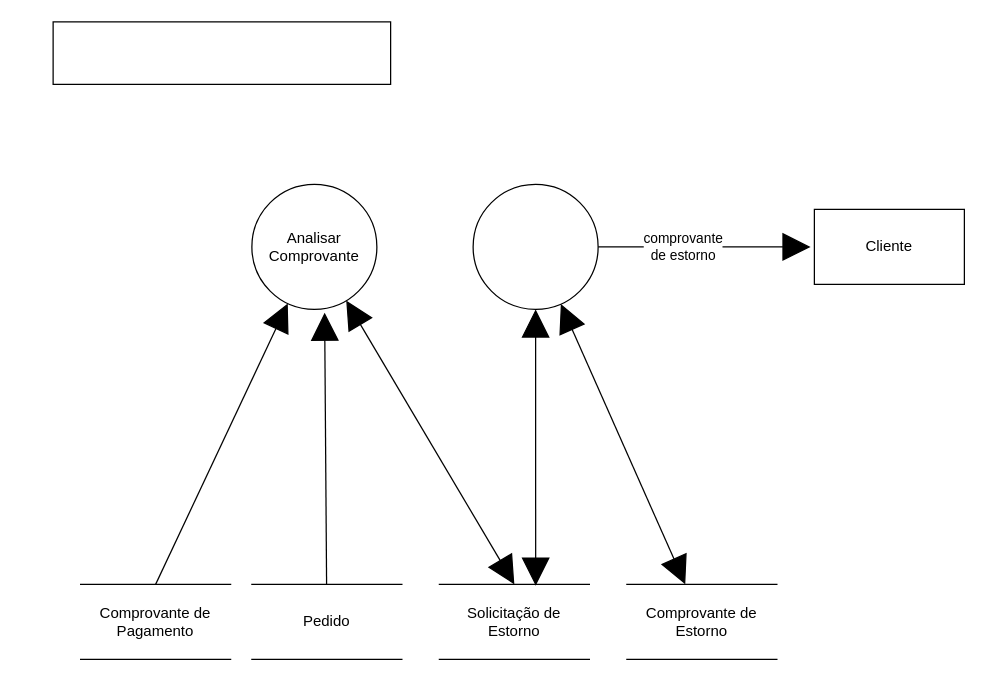
Some shapes in this 986 by 681 pixel diagram are drawn without their labels. Each missing label, with the centre of its shape:
DFD - Tratar estorno: [221,52]
Realizar Estorno: [535,246]
